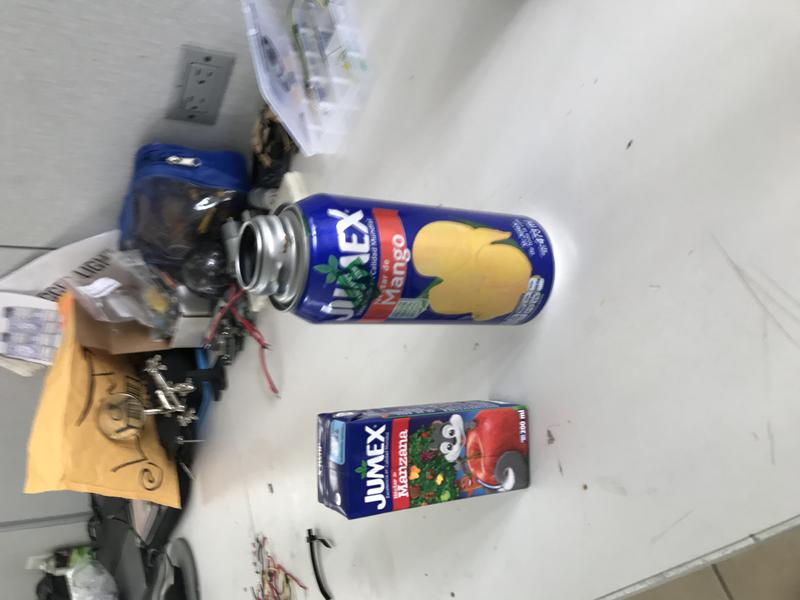jumex_botella: (236, 193, 555, 328)
jumex_cajita: (316, 399, 532, 520)
